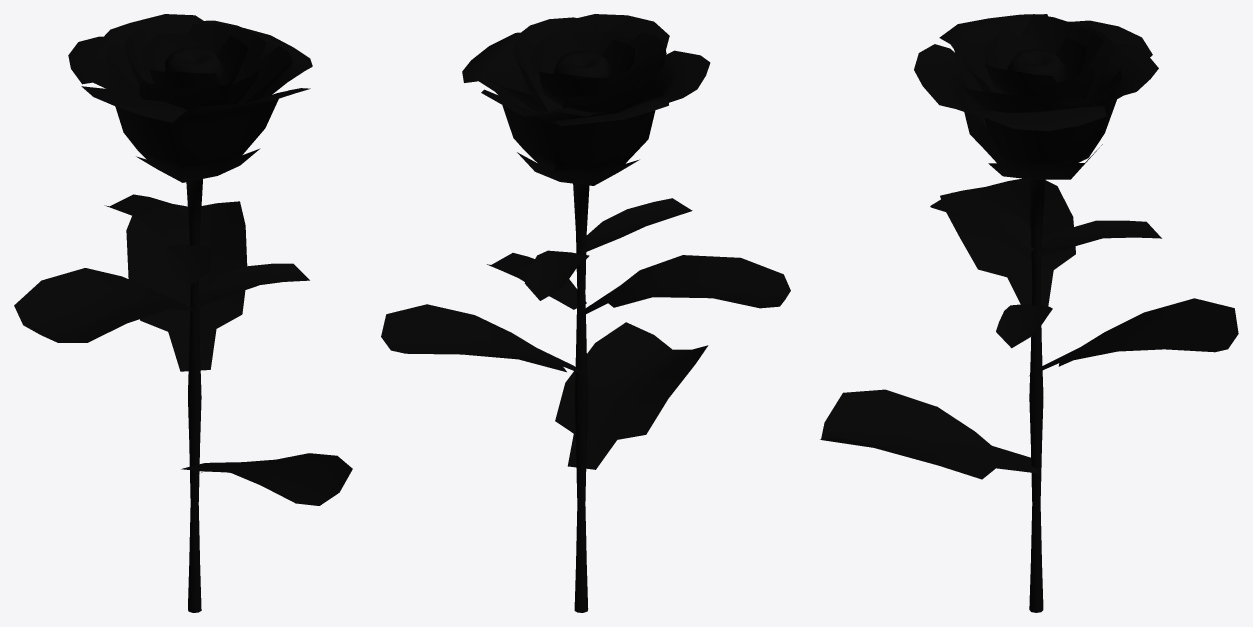
The model's file is myrose.glb.
3 renders of one model, left to right at view 1: azimuth 30°, elevation 25°; view 2: azimuth 150°, elevation 25°; view 3: azimuth 270°, elevation 25°, orthographic.
Visible parts, largest first — view 1: Rose_0; view 2: Rose_0; view 3: Rose_0.
Boxes of the visible parts, <box> form: Rose_0: <box>14,14,352,612</box>; Rose_0: <box>381,14,790,612</box>; Rose_0: <box>820,14,1238,612</box>.
Bounding box in the file's own units: 0.1132 × 0.1999 × 0.1348.
1 material, 1 textured.
